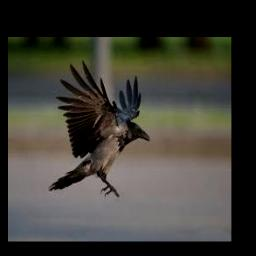Crow: (47, 60, 149, 197)
